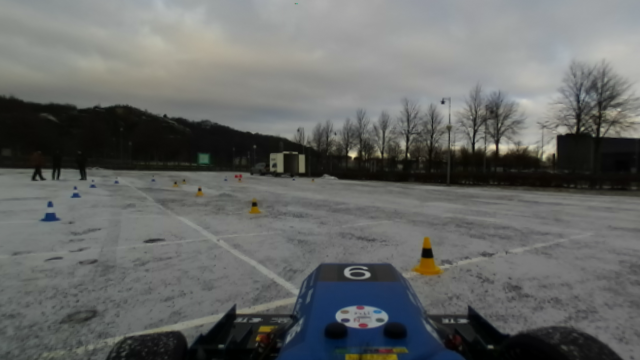blue: (39, 200, 61, 225)
yellow: (410, 235, 443, 280)
